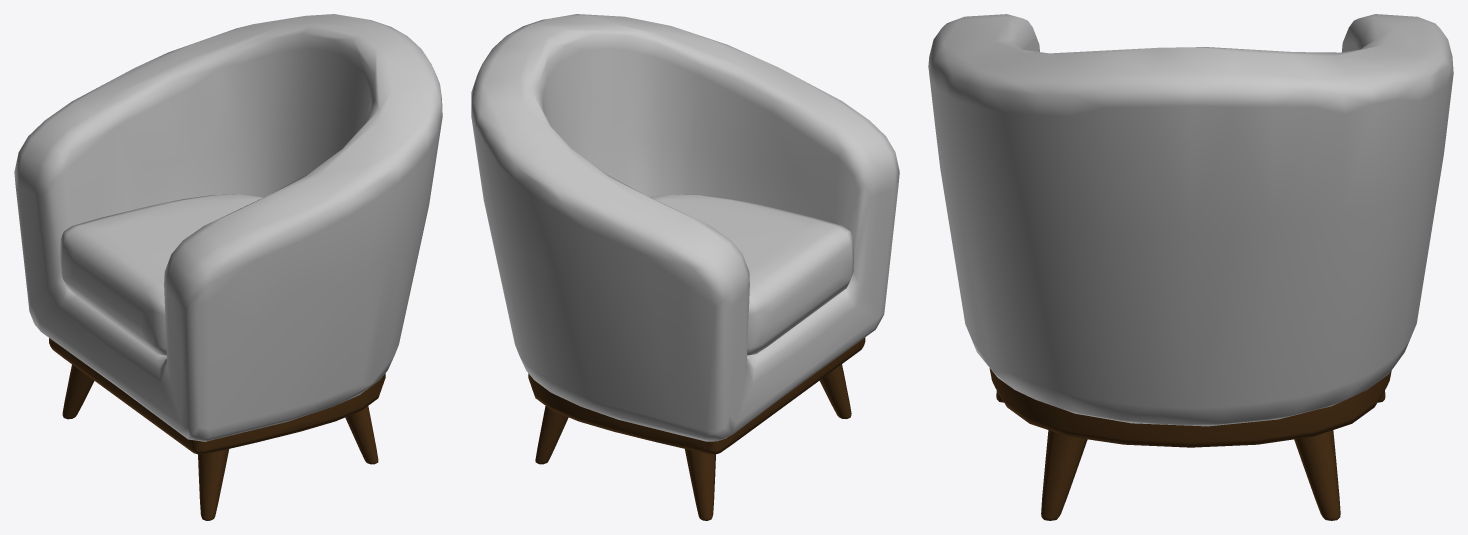
Rendered from armchair_06_white.fbx.
3 renders of one model, left to right at view 1: azimuth 30°, elevation 25°; view 2: azimuth 150°, elevation 25°; view 3: azimuth 270°, elevation 25°, orthographic. The views are drawn at different scales.
Visible parts, largest first — view 1: armchair_06_white; view 2: armchair_06_white; view 3: armchair_06_white.
Boxes of the visible parts, bbox=[...] form: armchair_06_white: bbox=[14, 14, 442, 520]; armchair_06_white: bbox=[471, 14, 899, 520]; armchair_06_white: bbox=[928, 14, 1453, 520].
Size of the model in its own units: 105 by 120 by 114.
Materials: 2 (2 with a texture image).
